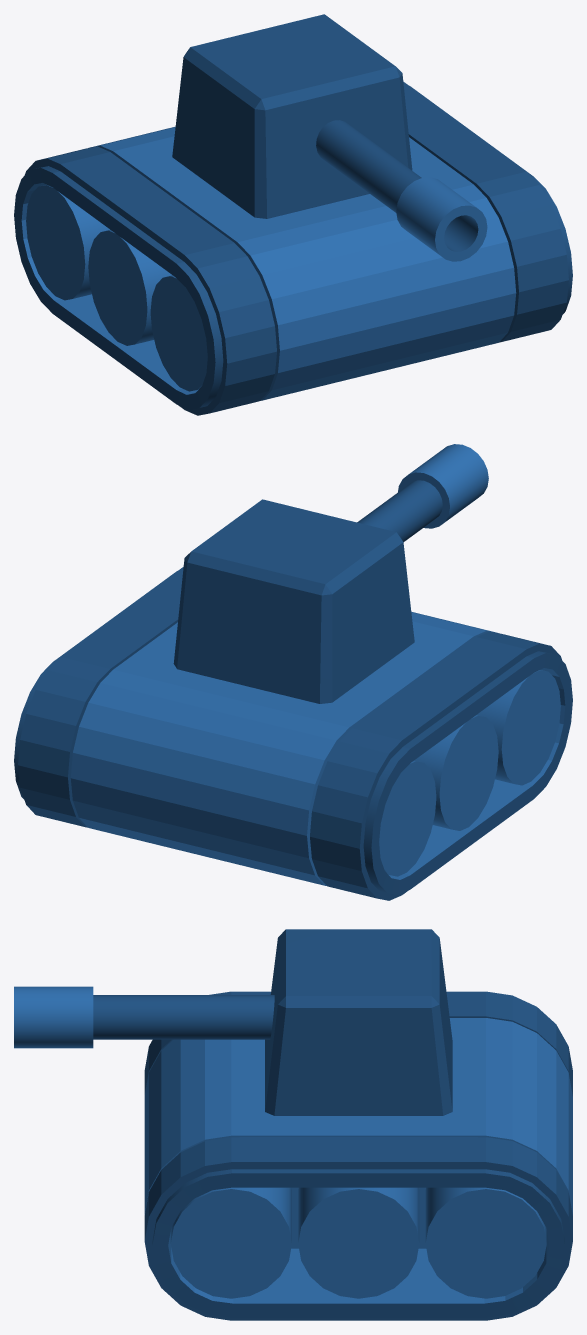
File: PlayerTank.fbx
3 views of the same model, one above another, from view 1: azimuth 30°, elevation 25°; view 2: azimuth 150°, elevation 25°; view 3: azimuth 270°, elevation 25° (orthographic). The views are drawn at different scales.
Visible parts, largest first — view 1: base, head, nozzle, wheel_middle, wheel_back, wheel_front; view 2: base, head, nozzle, wheel_middle, wheel_front, wheel_back; view 3: base, head, nozzle, wheel_middle, wheel_back, wheel_front.
Boxes of the visible parts, x1,y1,x2,y2 form: base: [14, 81, 572, 415]; head: [172, 14, 412, 218]; nozzle: [316, 120, 487, 261]; wheel_middle: [88, 229, 172, 345]; wheel_back: [26, 184, 109, 300]; wheel_front: [150, 275, 207, 391]; base: [14, 567, 572, 900]; head: [173, 499, 414, 703]; nozzle: [357, 444, 488, 541]; wheel_middle: [414, 715, 498, 830]; wheel_front: [477, 670, 560, 785]; wheel_back: [379, 760, 436, 876]; base: [144, 991, 572, 1320]; head: [265, 929, 452, 1115]; nozzle: [14, 986, 274, 1048]; wheel_middle: [298, 1187, 419, 1298]; wheel_back: [425, 1187, 546, 1298]; wheel_front: [170, 1187, 291, 1298].
Size of the model in its own units: 2.66 by 1.89 by 3.51.
